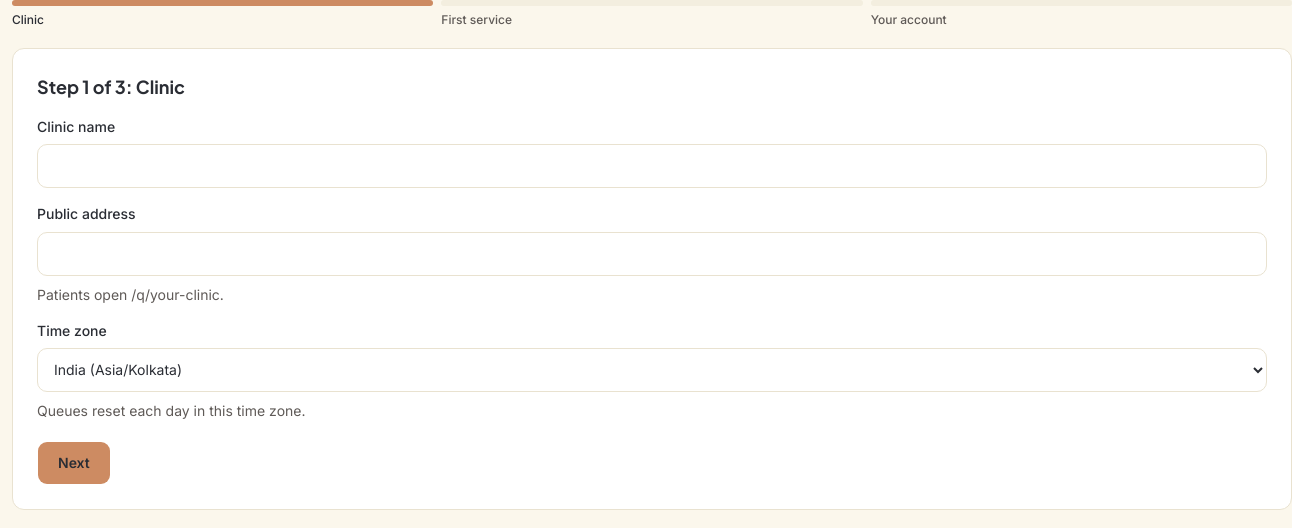
Test: SignupWizard › moves to the service step once the clinic step is valid
Type "Sharma Clinic" into the field labelled "Clinic name" at (652, 166), box top-left (37, 144), bottom-right (1267, 188)
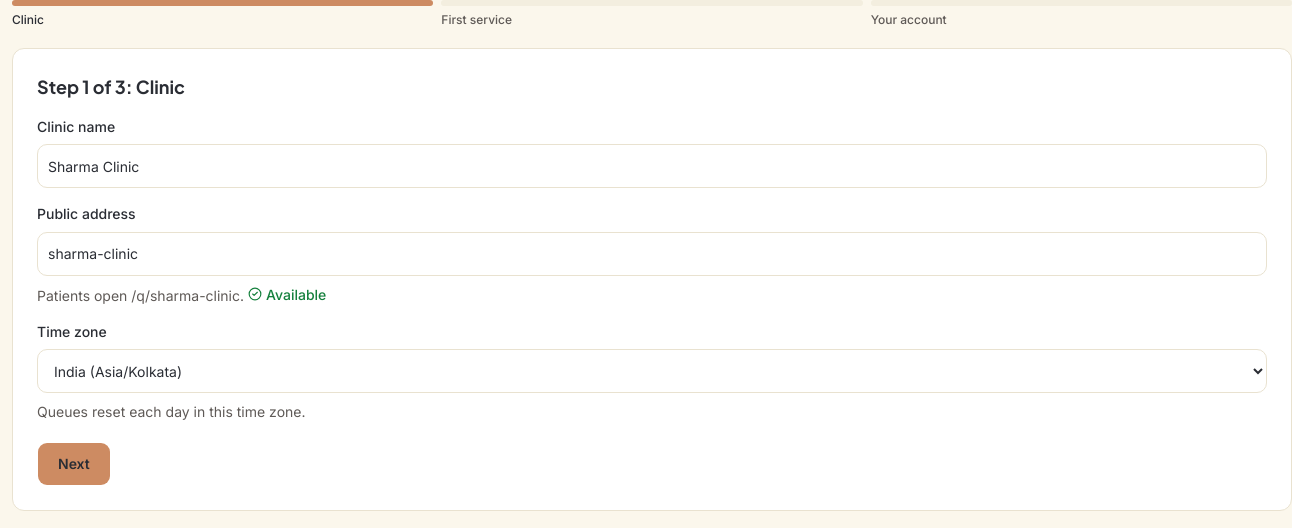
Expected: the text "Available" is shown, top-left (248, 284), bottom-right (326, 304)
Click the button "Next" at (74, 464), box top-left (37, 442), bottom-right (111, 486)
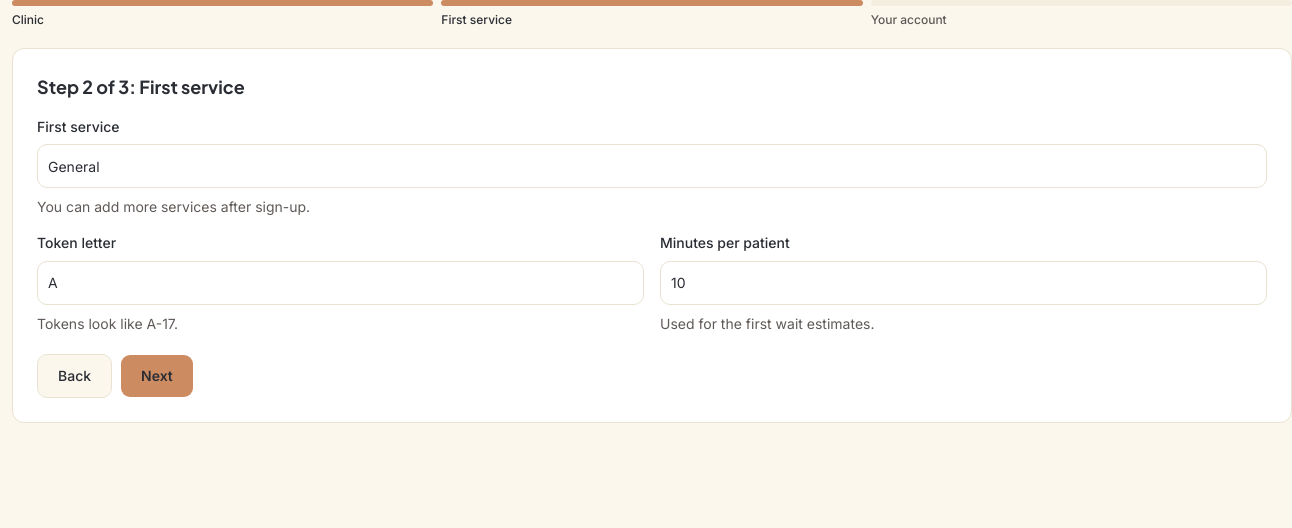
Expected: the heading "Step 2 of 3: First service" is shown, top-left (37, 75), bottom-right (245, 98)
Expected: the field labelled "First service" holds "General", top-left (37, 144), bottom-right (1267, 188)
